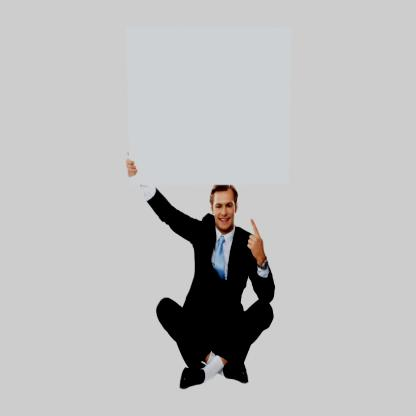Up: (243, 216, 267, 266)
